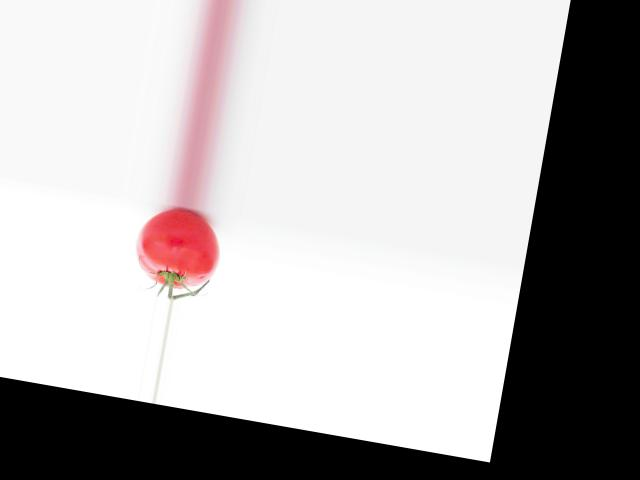tomato: (128, 202, 225, 293)
